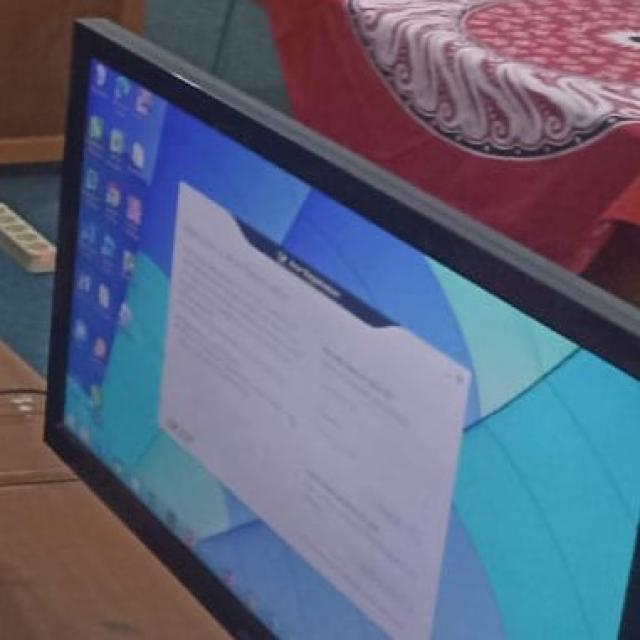onscreen: (49, 21, 640, 640)
